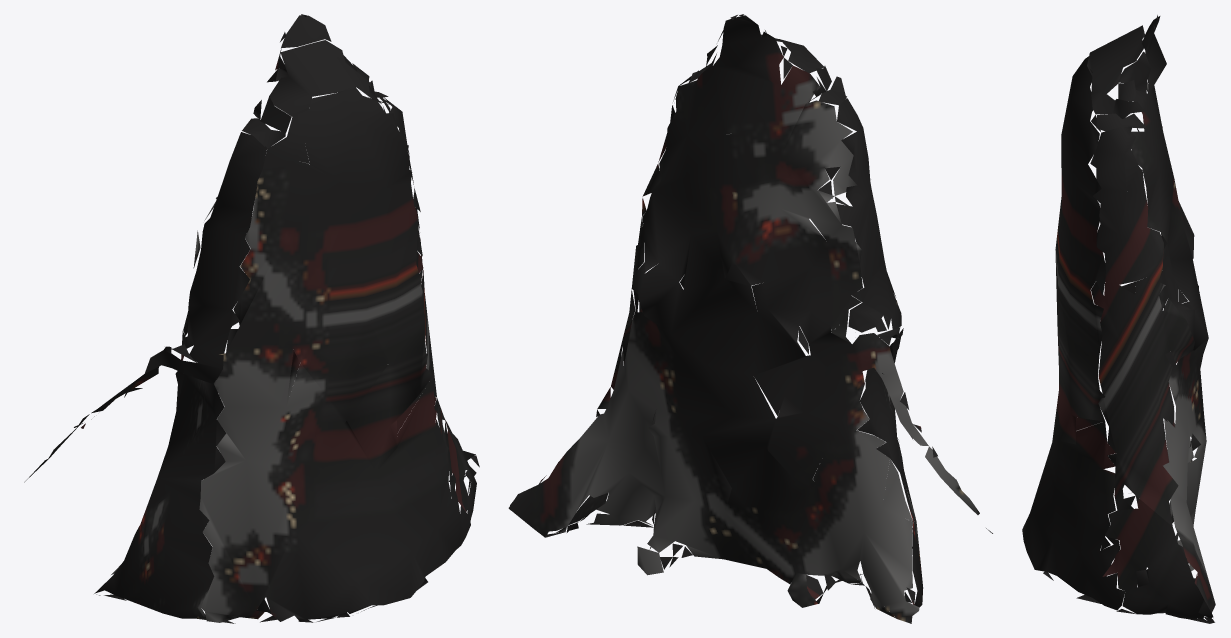
3 views of the same model, side by side, from view 1: azimuth 30°, elevation 25°; view 2: azimuth 150°, elevation 25°; view 3: azimuth 270°, elevation 25° (orthographic). The views are drawn at different scales.
Visible parts, largest first — view 1: body.002; view 2: body.002; view 3: body.002.
Part boxes in pixels (x1,y1,x2,y2): body.002: [24, 14, 479, 623]; body.002: [508, 14, 992, 623]; body.002: [1022, 15, 1215, 623].
Bounding box in the file's own units: 1.77 × 2.01 × 0.6475.
Materials: 1 (1 with a texture image).
